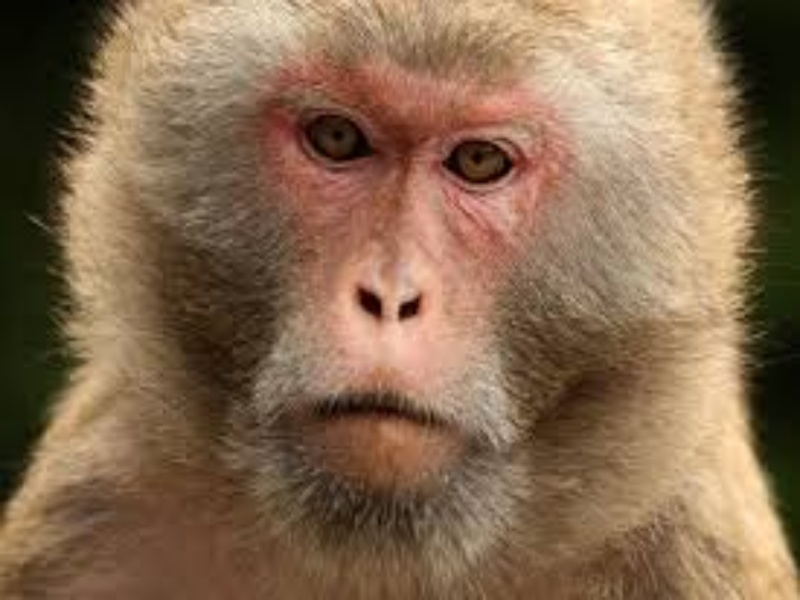monkey: (86, 1, 686, 600)
